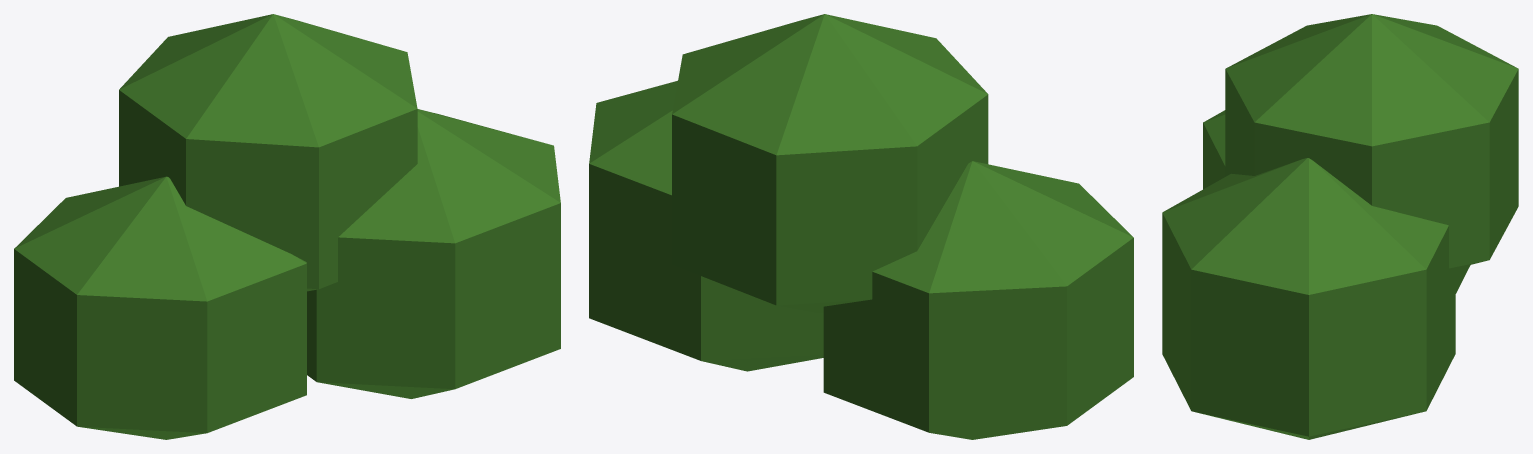
The model's file is bush_plain.obj.
3 views of the same model, side by side, from view 1: azimuth 30°, elevation 25°; view 2: azimuth 150°, elevation 25°; view 3: azimuth 270°, elevation 25° (orthographic). The views are drawn at different scales.
Size of the model in its own units: 1.4 by 1.05 by 0.903.
1 material, 1 textured.
